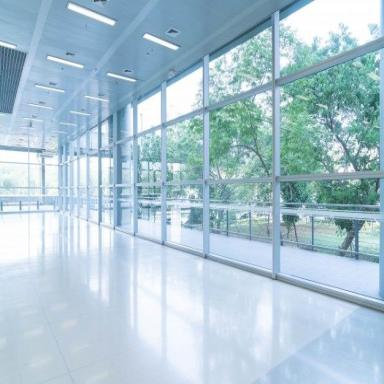glass_panel: (282, 183, 379, 295), (279, 89, 380, 169), (280, 0, 380, 74), (210, 92, 272, 180), (210, 183, 273, 269), (209, 28, 272, 103), (166, 116, 203, 181), (167, 185, 203, 250), (166, 67, 202, 121), (138, 92, 162, 133)
